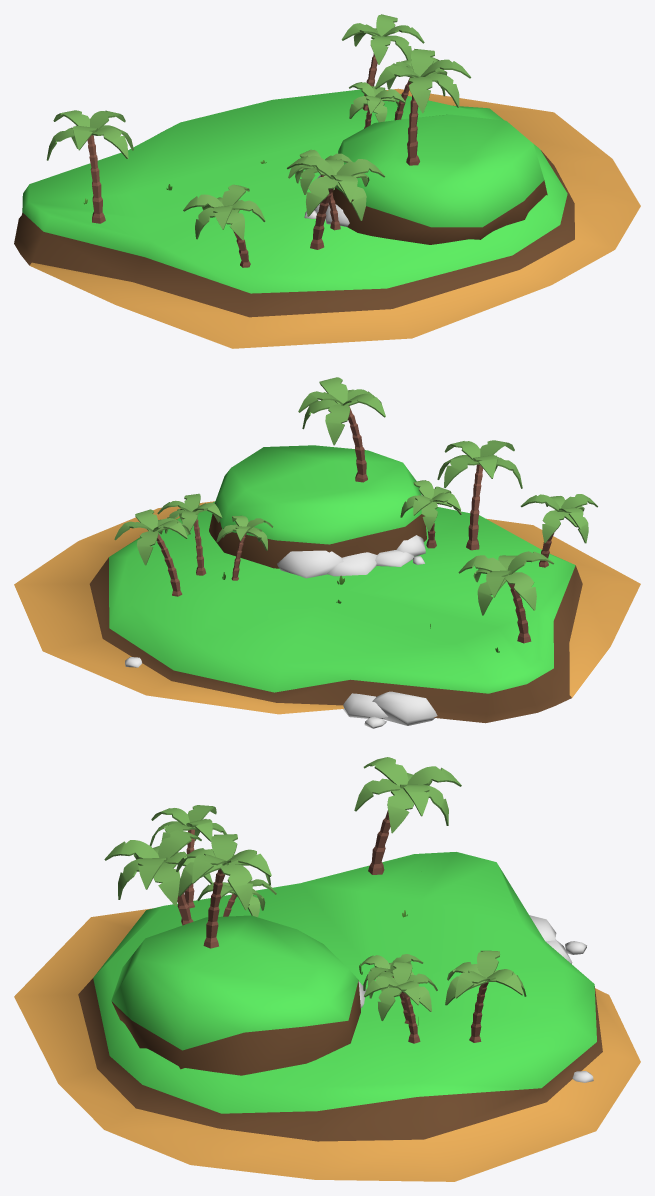
Rendered from SM_Island_01.fbx.
3 renders of one model, top to bottom at view 1: azimuth 30°, elevation 25°; view 2: azimuth 150°, elevation 25°; view 3: azimuth 270°, elevation 25°, orthographic. The views are drawn at different scales.
Parts seen in each view (by area): view 1: Cube.044, Cube.163, Cube.076, Cube.178, Cube.142, Cube.213, Cube.202, Cube.144, Cylinder.026, Cube.185, Cylinder.023, Cylinder.017; view 2: Cube.044, Cube.163, Cube.213, Stone_01.007, Cube.178, Stone_01.004, Cube.076, Cube.142, Cube.202, Cube.185, Cube.143, Stone_01.005 (+4 smaller); view 3: Cube.044, Cube.163, Cube.213, Cube.076, Cube.178, Cube.202, Cube.143, Cube.142, Stone_01.007, Cylinder.023, Cube.144, Cube.185 (+1 smaller).
Part boxes in pixels (bbox=[...]): Cube.044: bbox=[14, 88, 640, 348]; Cube.163: bbox=[332, 114, 547, 244]; Cube.076: bbox=[287, 155, 384, 220]; Cube.178: bbox=[374, 48, 471, 113]; Cube.142: bbox=[183, 184, 265, 240]; Cube.213: bbox=[46, 110, 133, 160]; Cube.202: bbox=[341, 14, 424, 64]; Cube.144: bbox=[349, 82, 405, 122]; Cylinder.026: bbox=[87, 135, 105, 223]; Cube.185: bbox=[288, 149, 352, 194]; Cylinder.023: bbox=[406, 95, 419, 165]; Cylinder.017: bbox=[310, 189, 333, 249]; Cube.044: bbox=[14, 501, 640, 723]; Cube.163: bbox=[209, 445, 426, 568]; Cube.213: bbox=[458, 551, 553, 615]; Stone_01.007: bbox=[343, 691, 437, 728]; Cube.178: bbox=[298, 377, 385, 445]; Stone_01.004: bbox=[277, 550, 376, 578]; Cube.076: bbox=[437, 440, 522, 488]; Cube.142: bbox=[520, 494, 597, 543]; Cube.202: bbox=[114, 509, 190, 565]; Cube.185: bbox=[400, 480, 461, 531]; Cube.143: bbox=[157, 493, 222, 535]; Stone_01.005: bbox=[375, 535, 425, 566]; Cube.044: bbox=[14, 852, 640, 1181]; Cube.163: bbox=[111, 915, 360, 1075]; Cube.213: bbox=[354, 757, 461, 833]; Cube.076: bbox=[104, 830, 212, 906]; Cube.178: bbox=[176, 834, 271, 910]; Cube.202: bbox=[445, 950, 526, 1005]; Cube.143: bbox=[364, 962, 437, 1020]; Cube.142: bbox=[149, 805, 226, 846]; Stone_01.007: bbox=[529, 915, 586, 963]; Cylinder.023: bbox=[203, 869, 224, 948]; Cube.144: bbox=[360, 954, 423, 991]; Cube.185: bbox=[197, 877, 276, 917].
Size of the model in its own units: 77.94 by 25.51 by 68.6.
